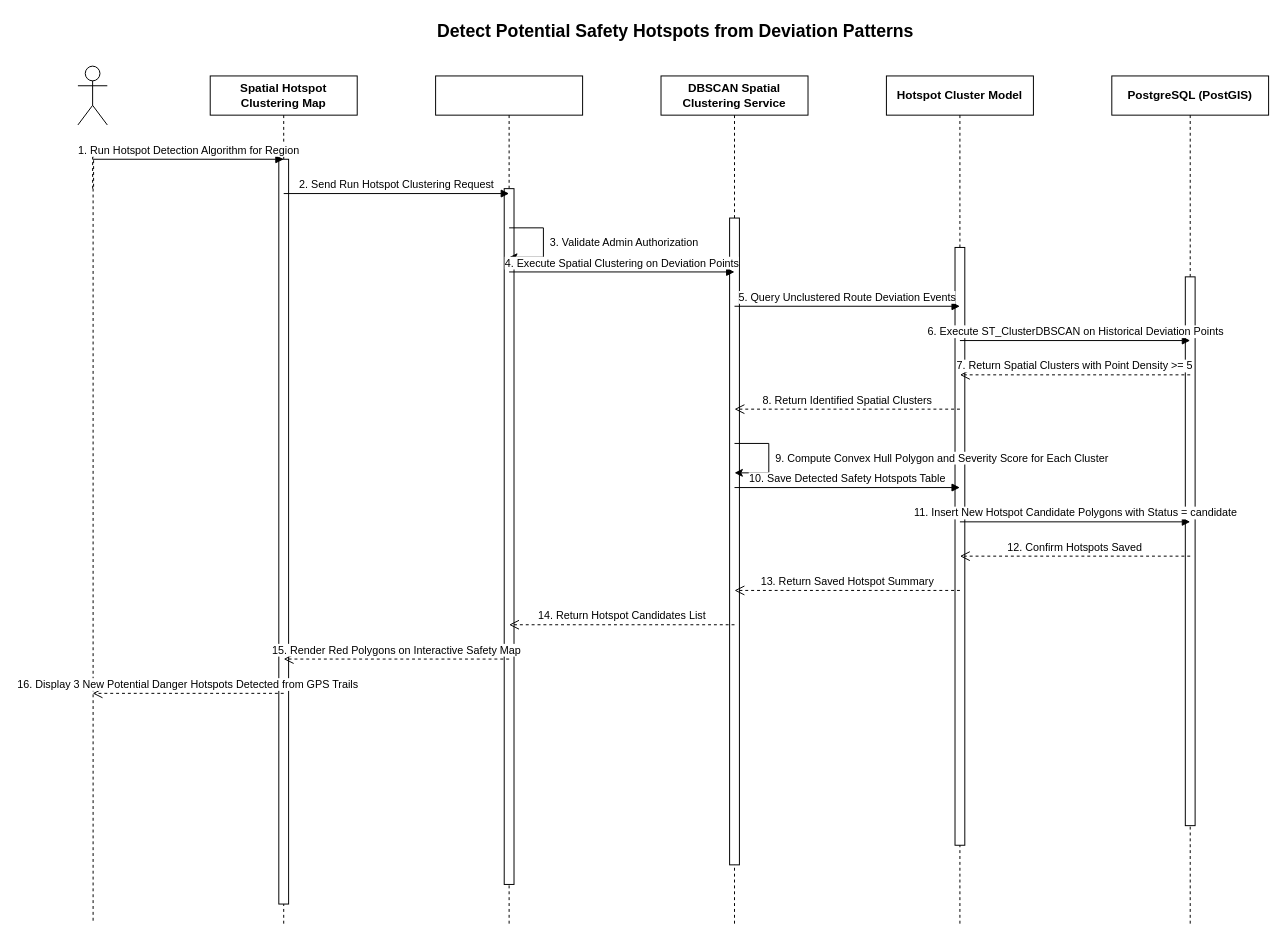
The diagram is 1286 pixels wide and 941 high, and some of its shapes have lost their labels. The shapes that lost their labels are listed below. From the top down, each one's box as (x1, y1, x2, y2) in pixels, then its label:
(77, 65, 107, 125): Admin
(435, 75, 583, 924): Safety Hotspot Controller
